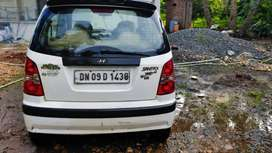DN0901438: (74, 70, 130, 83)
